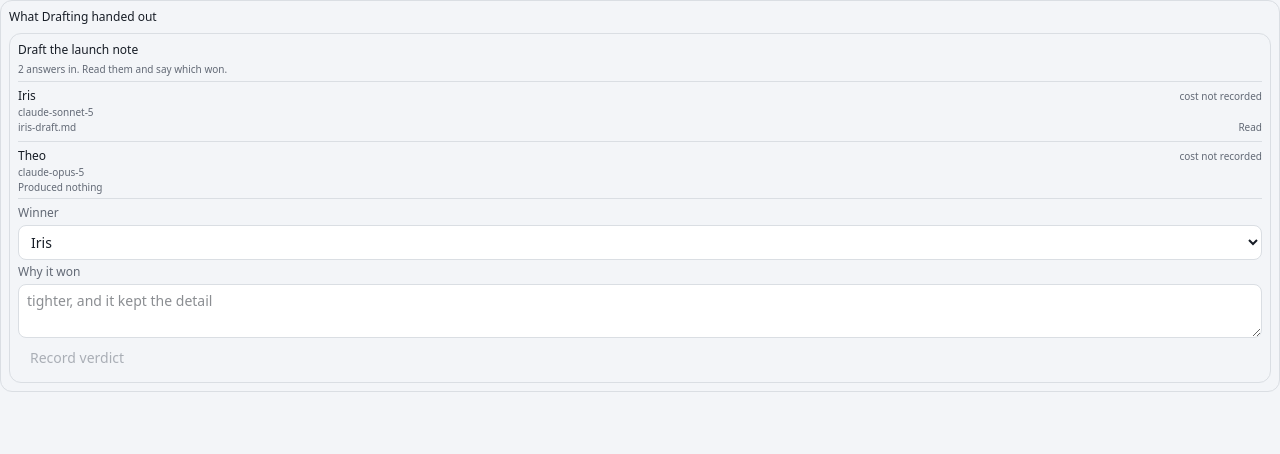
Scenario: a shootout: everybody's answer to the same question › reads an answer out, because comparing file names tells nobody anything
Click the button with aria-label "read iris-draft" at (1250, 128), box [1238,121,1262,135]
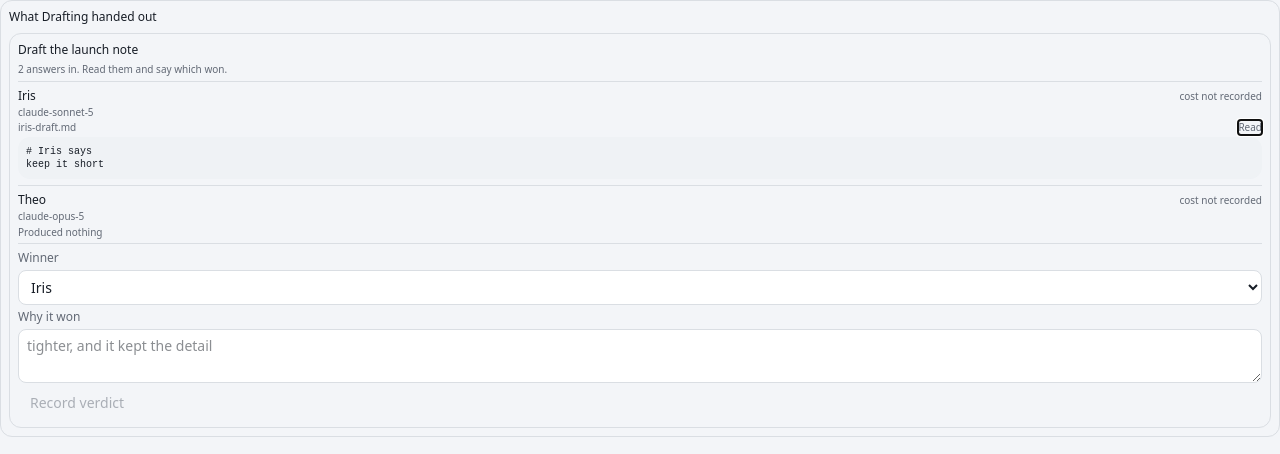
Now the text "# Iris says keep it short" is shown, box [18,137,1262,179]
